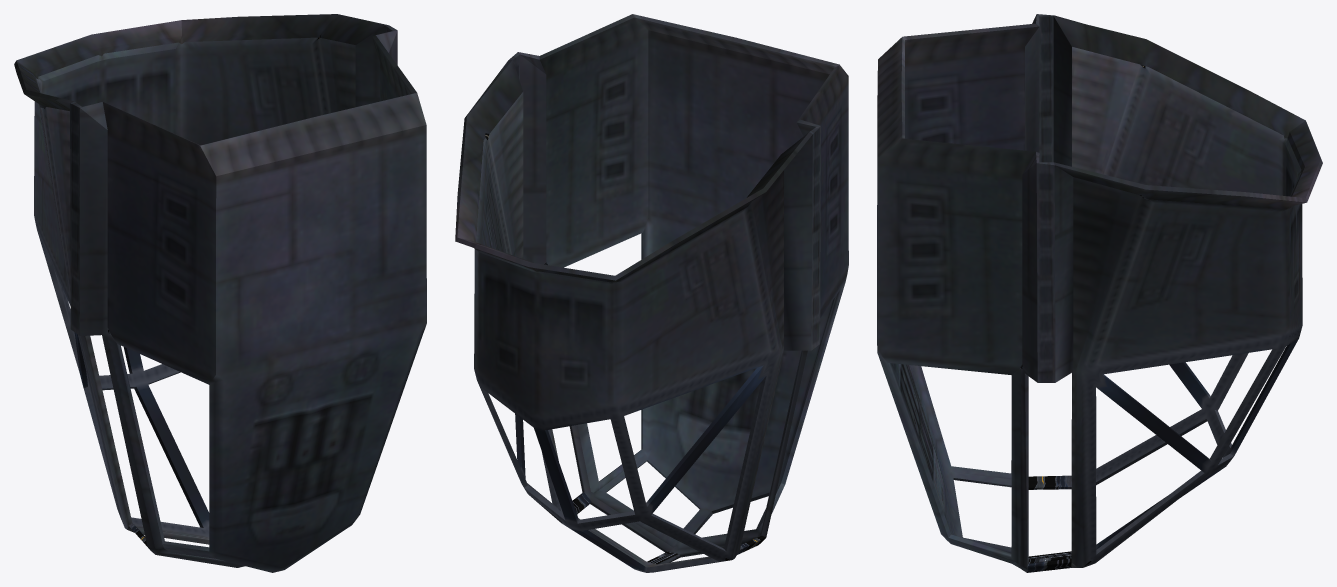
Rendered from Kabina2.obj.
3 views of the same model, side by side, from view 1: azimuth 30°, elevation 25°; view 2: azimuth 150°, elevation 25°; view 3: azimuth 270°, elevation 25° (orthographic). The views are drawn at different scales.
Parts seen in each view (by area): view 1: Trident_Space_Fighter001; view 2: Trident_Space_Fighter001; view 3: Trident_Space_Fighter001.
Part boxes in pixels (left/top/right/bottom): Trident_Space_Fighter001: left=14, top=14, right=426, bottom=572; Trident_Space_Fighter001: left=455, top=14, right=848, bottom=572; Trident_Space_Fighter001: left=877, top=14, right=1322, bottom=572.
Size of the model in its own units: 11.18 by 16.61 by 14.07.
